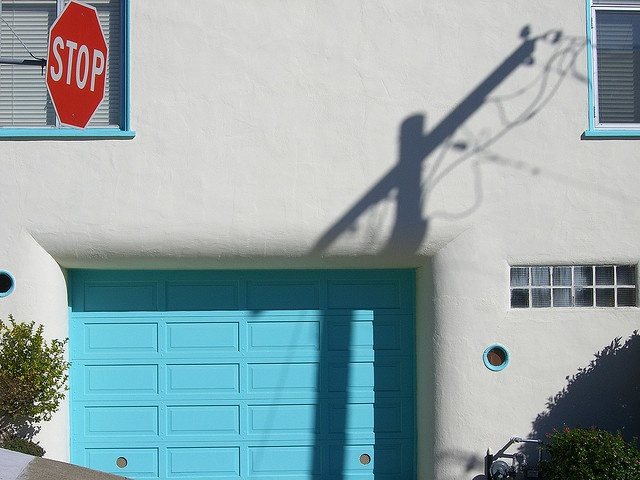stop sign: (40, 4, 147, 130)
